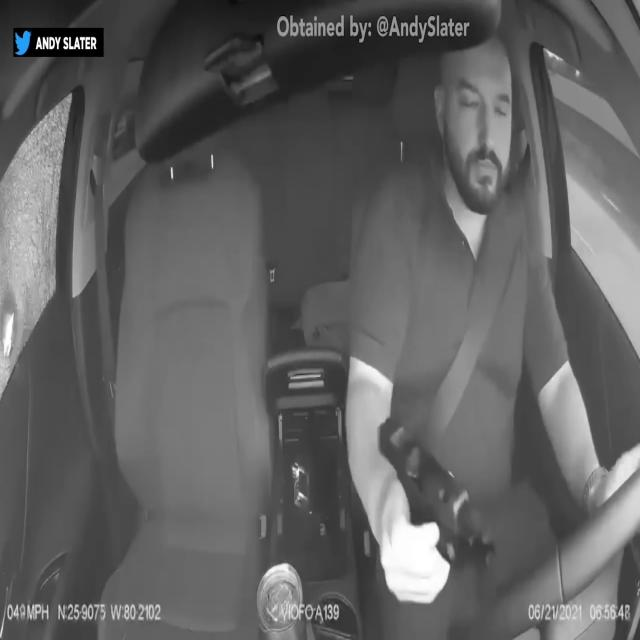senjata_api: (379, 409, 496, 572)
